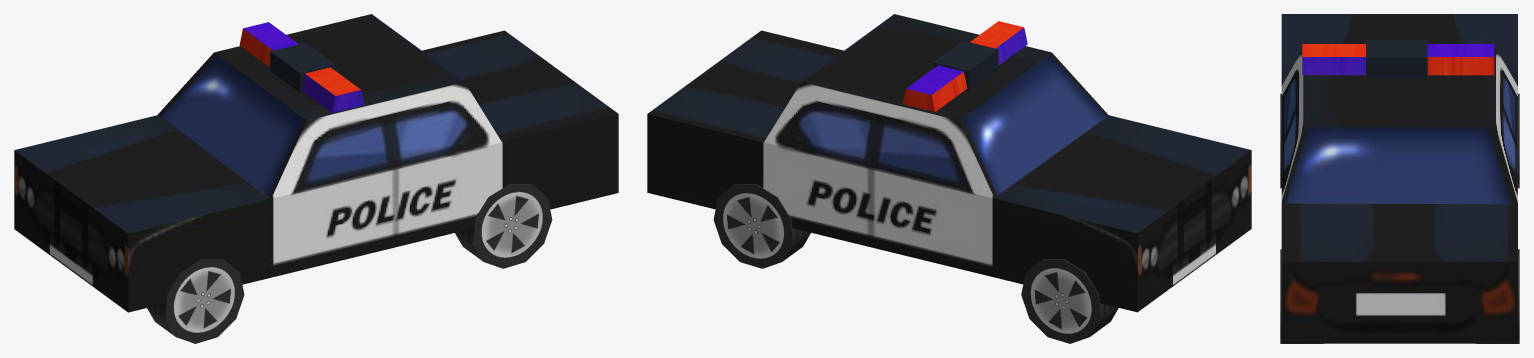
File: авто с текстурой.FBX
The picture shows the model from 3 angles, left to right: view 1: azimuth 30°, elevation 25°; view 2: azimuth 150°, elevation 25°; view 3: azimuth 270°, elevation 25°; orthographic projection. The views are drawn at different scales.
Visible parts, largest first — view 1: car, Cylinder011, Cylinder015; view 2: car, Cylinder016, Cylinder017; view 3: car, Cylinder015, Cylinder016, Cylinder011, Cylinder017.
Part boxes in pixels (<box>): car: <box>14,14,618,312</box>; Cylinder011: <box>147,259,244,343</box>; Cylinder015: <box>455,184,552,268</box>; car: <box>647,14,1251,312</box>; Cylinder016: <box>713,184,810,268</box>; Cylinder017: <box>1021,259,1118,343</box>; car: <box>1281,14,1517,343</box>; Cylinder015: <box>1280,249,1323,343</box>; Cylinder016: <box>1476,249,1519,343</box>; Cylinder011: <box>1280,93,1281,188</box>; Cylinder017: <box>1518,93,1519,188</box>.
Size of the model in its own units: 3.1 by 1.24 by 1.26.
Materials: 2 (2 with a texture image).
